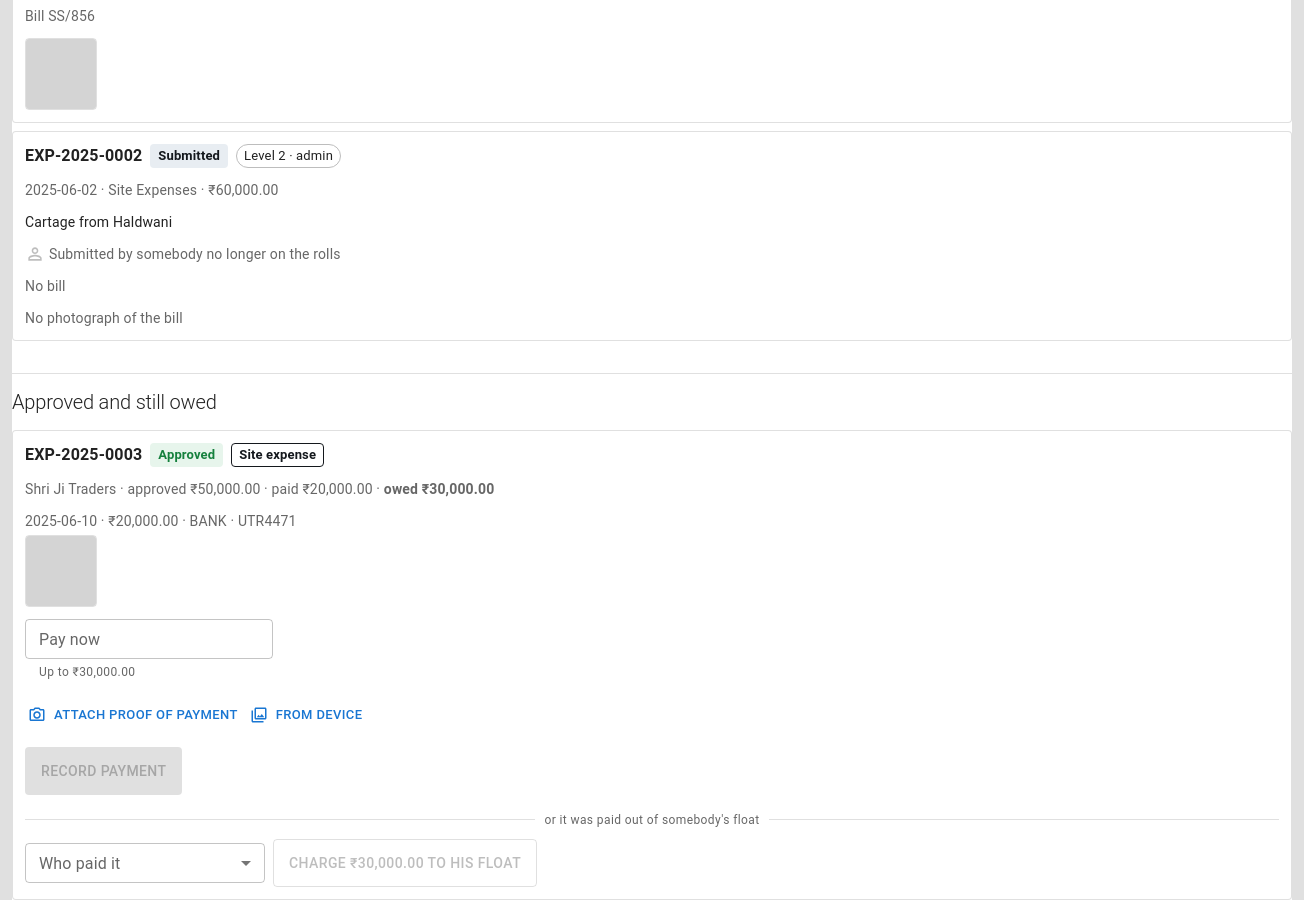
Test: ApprovalsPage › spells out that charging past a float leaves the company owing him
(page scrolled)
Check: the text "EXP-2025-0003" is shown, box [25, 443, 142, 467]
Click the dropdown named "Who paid it".
click(145, 863)  # box [25, 843, 265, 883]
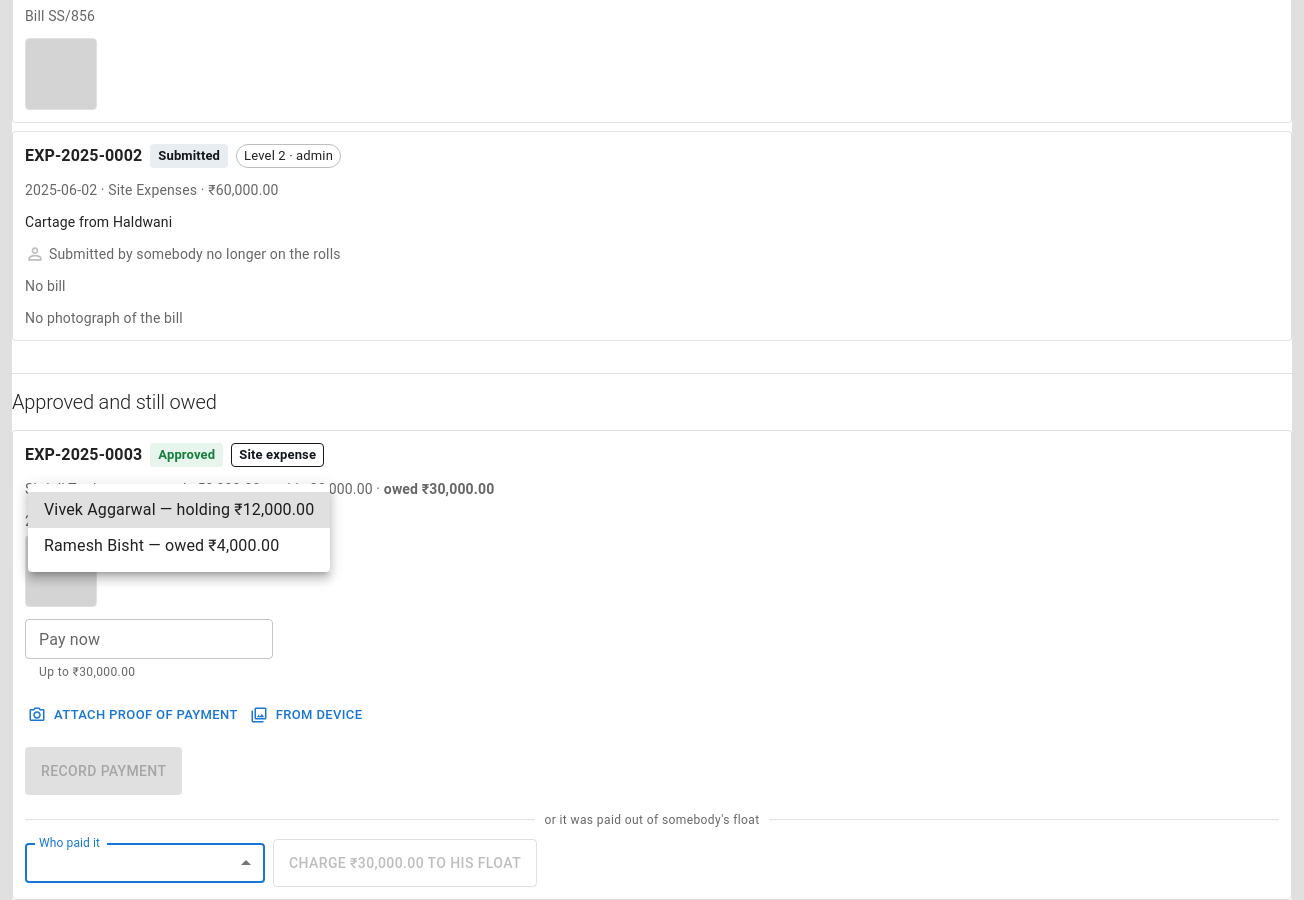
Click the option "Vivek Aggarwal — holding ₹12,000.00".
click(179, 510)  # box [28, 492, 330, 528]
(page scrolled)
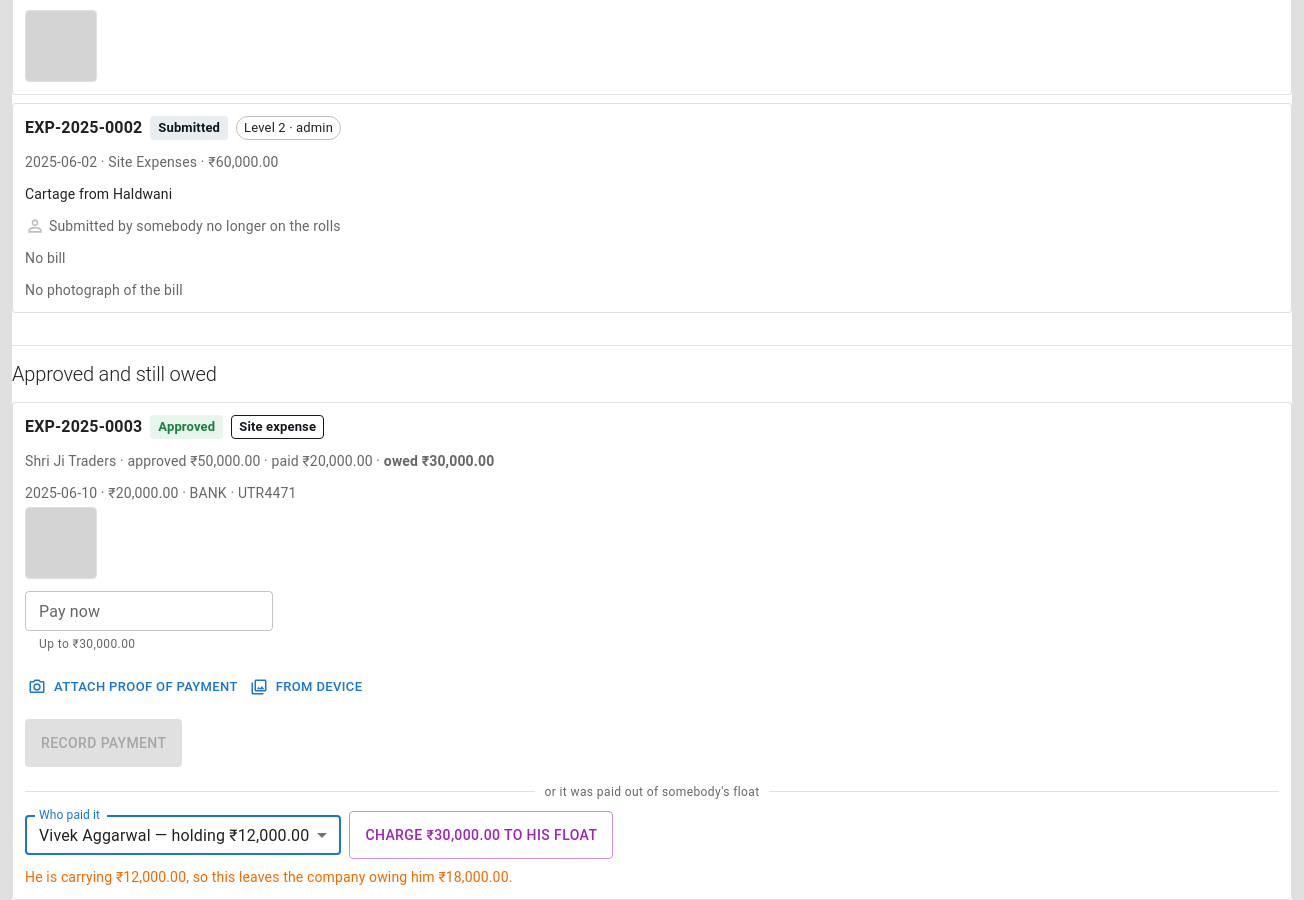
Check: the text "He is carrying ₹12,000.00, so this leaves the company owing him ₹18,000.00." is shown, box [25, 869, 512, 885]
